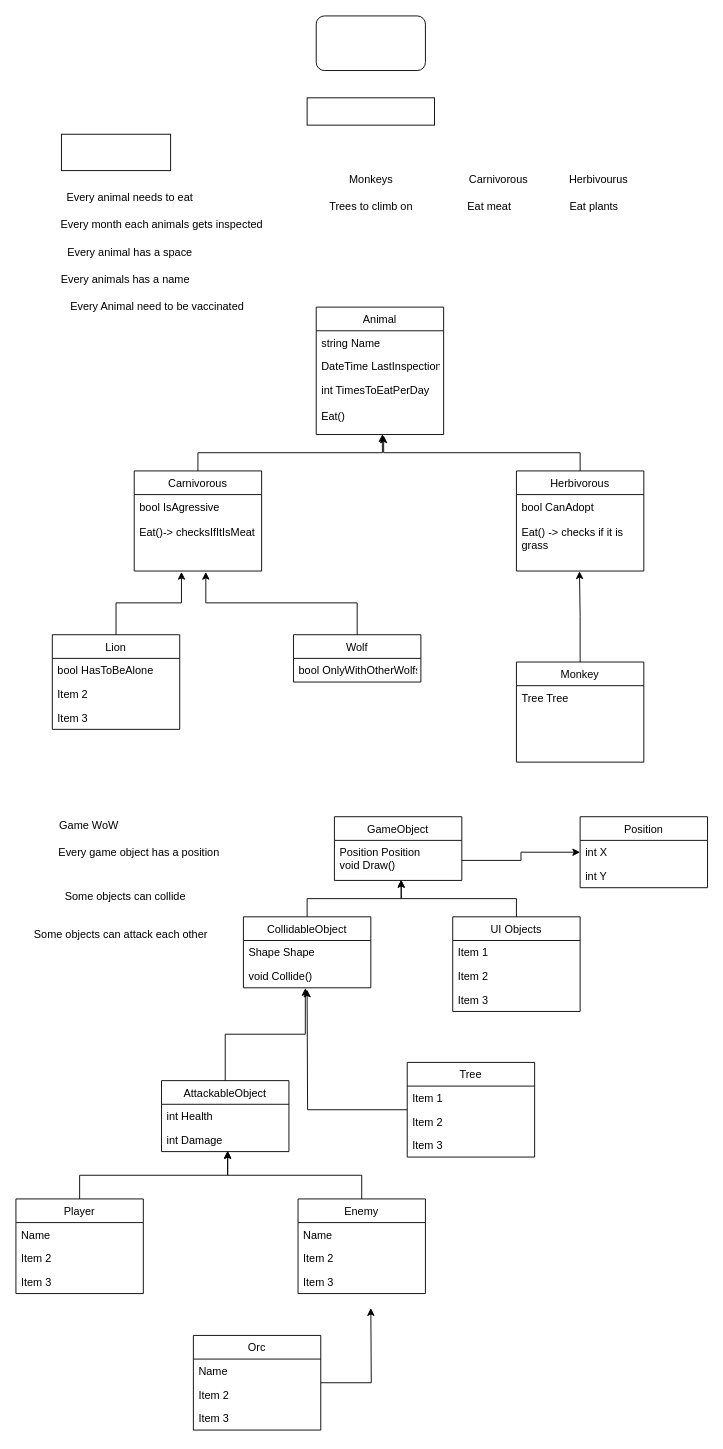
The diagram is 723 pixels wide and 1449 high, and some of its shapes have lost their labels. Here are the shapes that lost their labels. From the top down, the centre of each, then its label:
At pixel 370 43: "OOP - Object Oriented Programming".
At pixel 370 111: "Everything is an object".
At pixel 116 152: "Zoo Specification".
